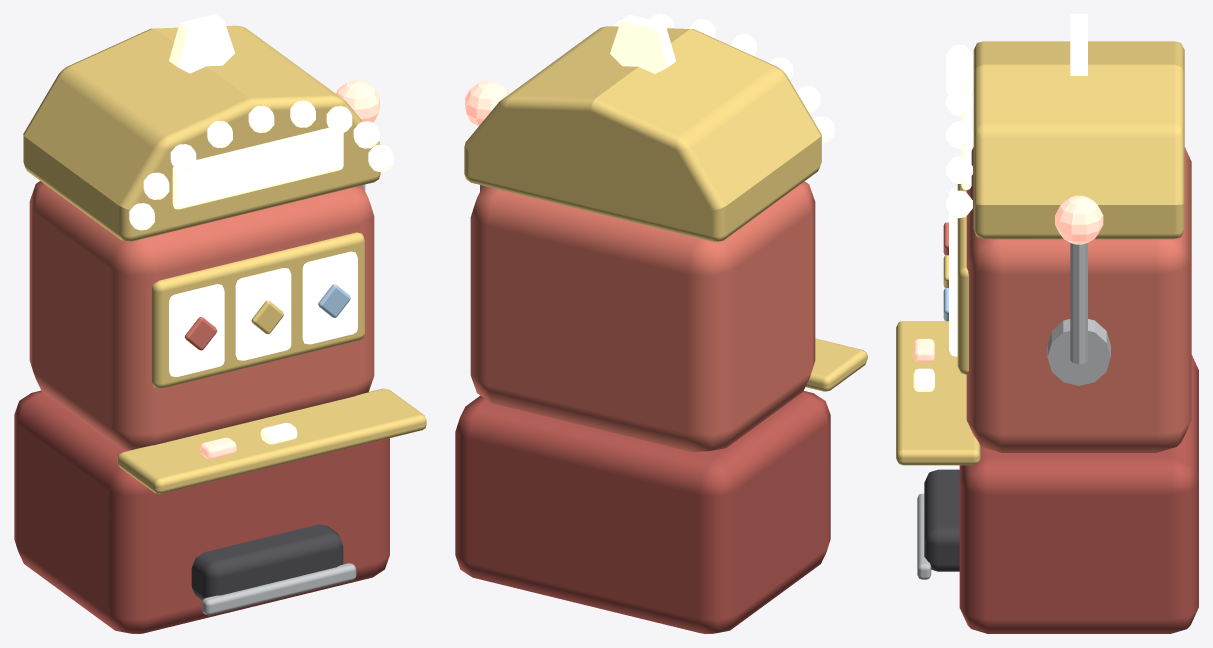
File: machine_slot.glb
3 renders of one model, left to right at view 1: azimuth 30°, elevation 25°; view 2: azimuth 150°, elevation 25°; view 3: azimuth 270°, elevation 25°, orthographic.
Parts seen in each view (by area): view 1: MerchantShop; view 2: MerchantShop; view 3: MerchantShop.
Part boxes in pixels (<box>): MerchantShop: <box>14,14,426,633</box>; MerchantShop: <box>455,14,867,633</box>; MerchantShop: <box>896,14,1198,633</box>.
Bounding box in the file's own units: 1.03 × 1.74 × 0.86.
